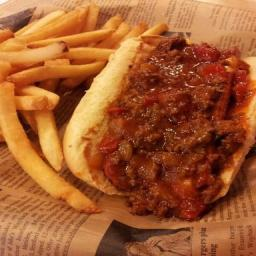hotdog: (217, 48, 243, 124)
